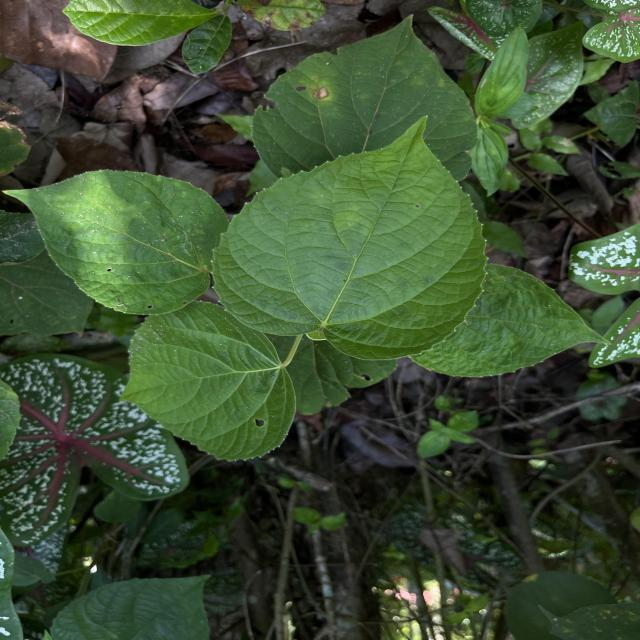Clerodendrum infortunatum: (210, 114, 494, 363), (249, 13, 482, 178), (2, 167, 230, 316), (118, 298, 298, 463), (407, 262, 614, 379)
